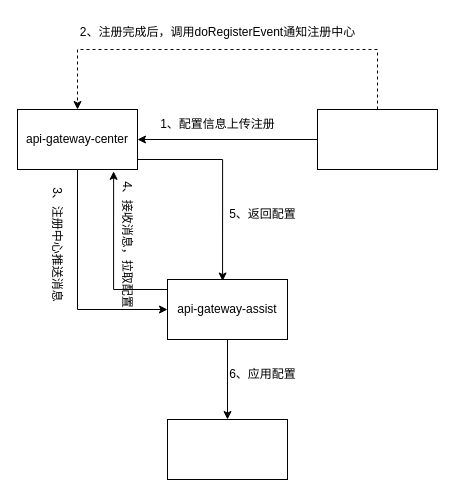
This 455x497 diagram has some shape labels left out. The centre of each missing label's shape, as x and y in pixels:
"api-gateway-core" goes at point (227, 449).
"RPC" goes at point (377, 139).
